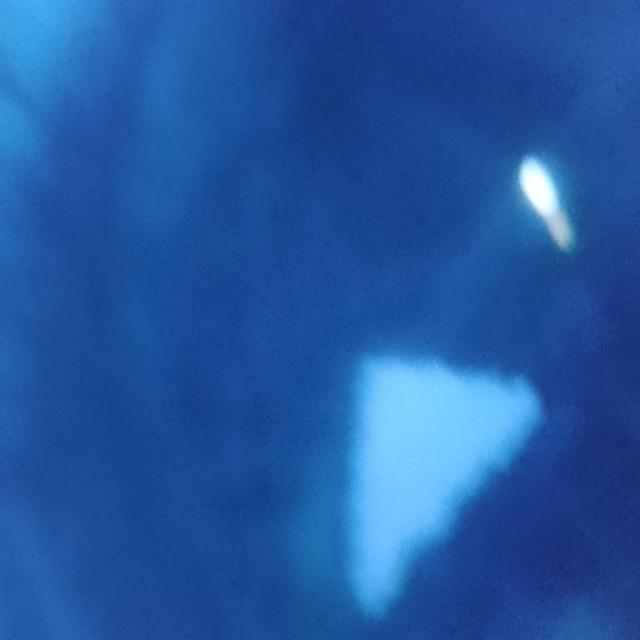litter: (321, 336, 546, 618)
